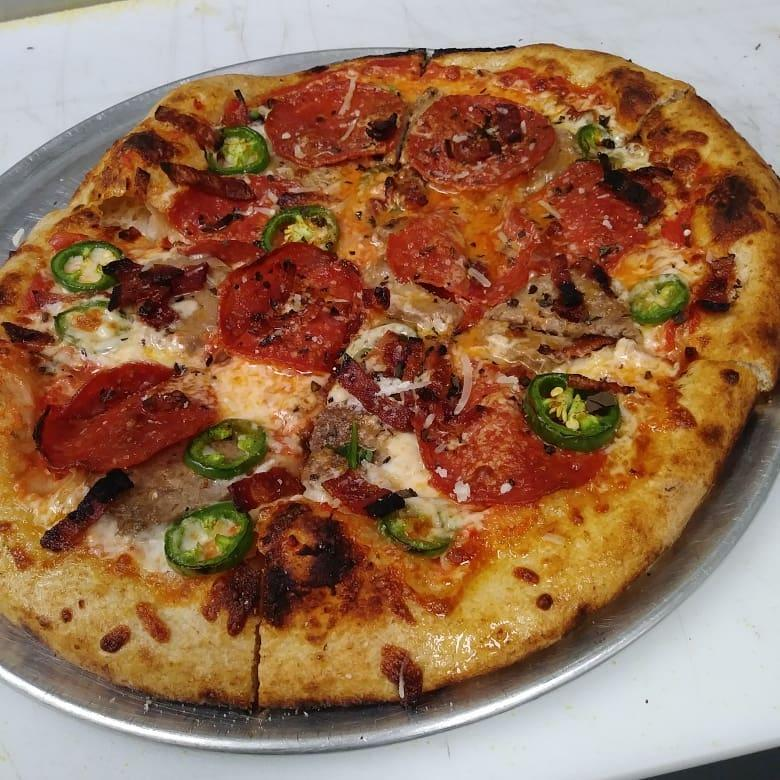Ham: (339, 332, 455, 427), (108, 255, 208, 323), (48, 473, 131, 553), (230, 469, 297, 506), (328, 479, 393, 516)
Pepperoni: (413, 361, 614, 512), (33, 362, 213, 473), (216, 248, 367, 364), (518, 153, 673, 262), (385, 202, 538, 302), (402, 89, 553, 188), (266, 76, 401, 161), (169, 172, 296, 262)
Peppers: (522, 373, 621, 448), (166, 502, 247, 566), (185, 419, 266, 478), (50, 236, 122, 291), (53, 299, 127, 348), (259, 205, 334, 253), (206, 122, 267, 180), (625, 275, 686, 323), (572, 122, 618, 162)
Pizza: (0, 43, 780, 712)
